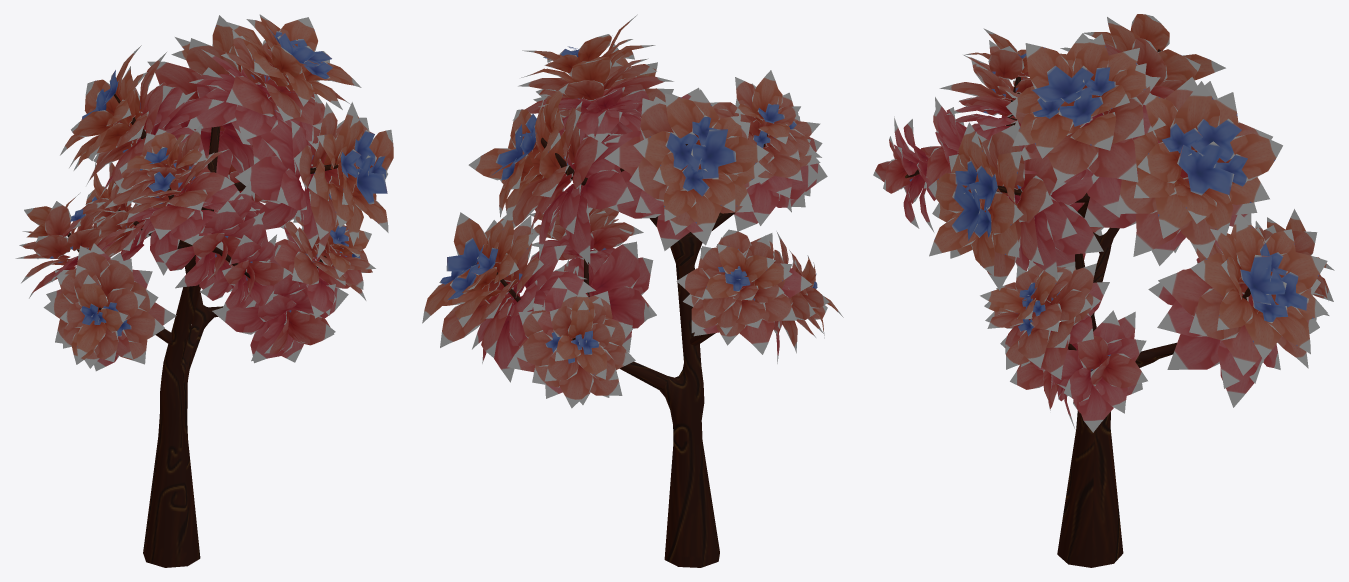
File: Forest_Trees_Pink_3.glb
3 views of the same model, side by side, from view 1: azimuth 30°, elevation 25°; view 2: azimuth 150°, elevation 25°; view 3: azimuth 270°, elevation 25° (orthographic). The views are drawn at different scales.
Parts seen in each view (by area): view 1: Object_24.008; view 2: Object_24.008; view 3: Object_24.008.
Part boxes in pixels (x1,y1,x2,y2): Object_24.008: (15, 14, 393, 567); Object_24.008: (422, 14, 843, 567); Object_24.008: (873, 14, 1334, 567).
Size of the model in its own units: 137 by 211 by 157.
